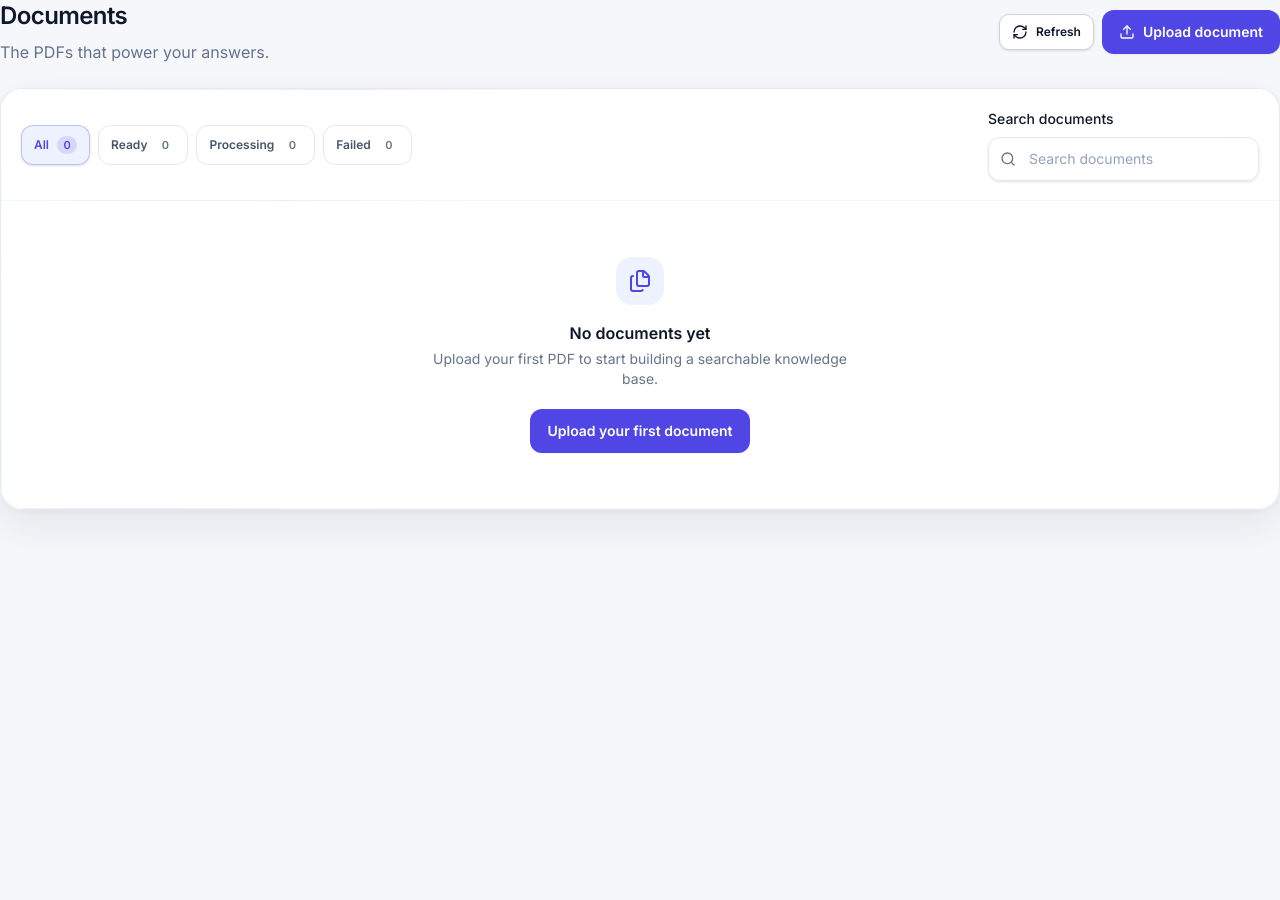
Test case: Documents page › renders the new-user empty state and opens upload from its CTA
Check: the heading "No documents yet" is shown, box [570,321,710,345]
Click the button "Upload your first document". click: click(640, 431)
box: [530,409,750,453]
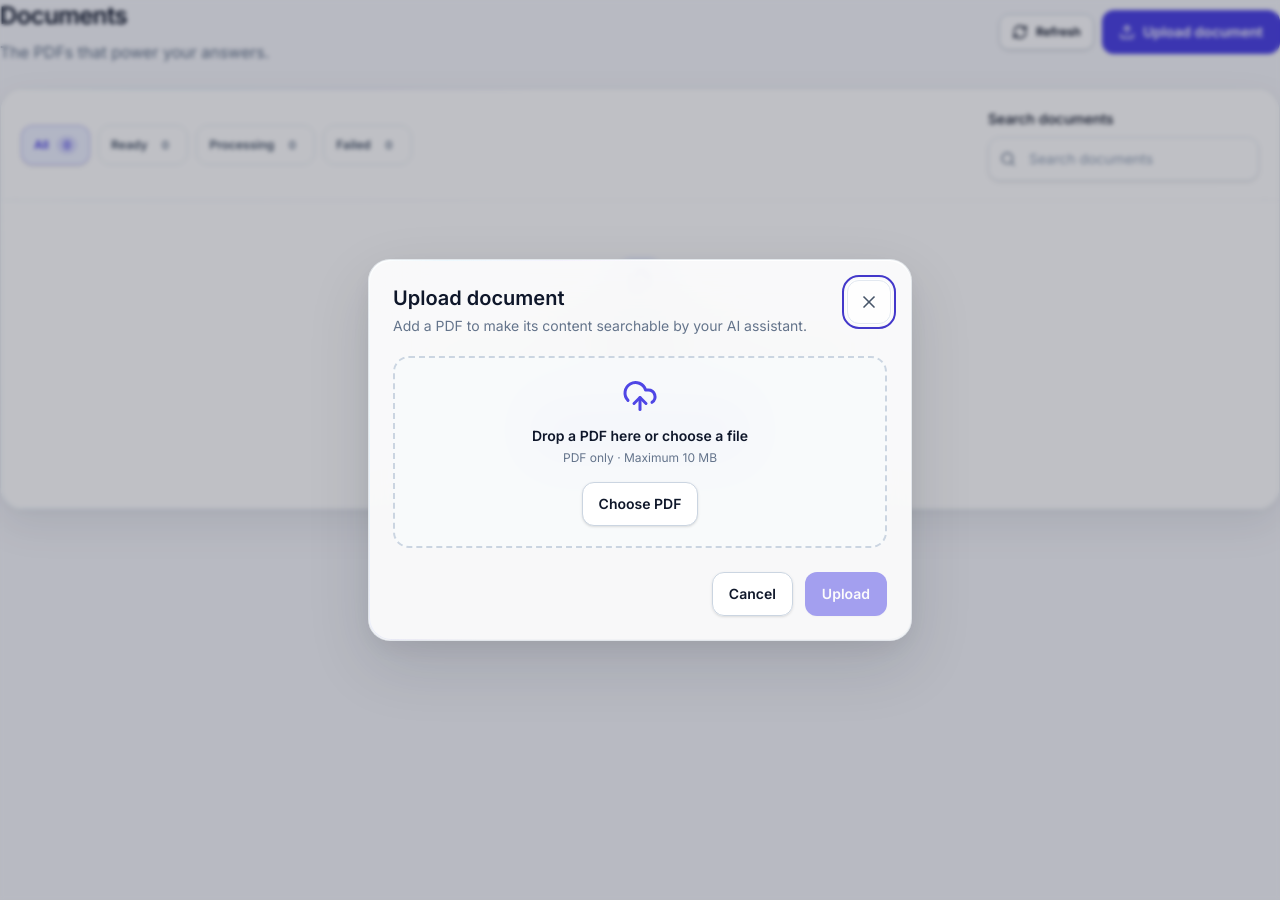
Check: the dialog "Upload document" is shown, box [368,259,912,641]
